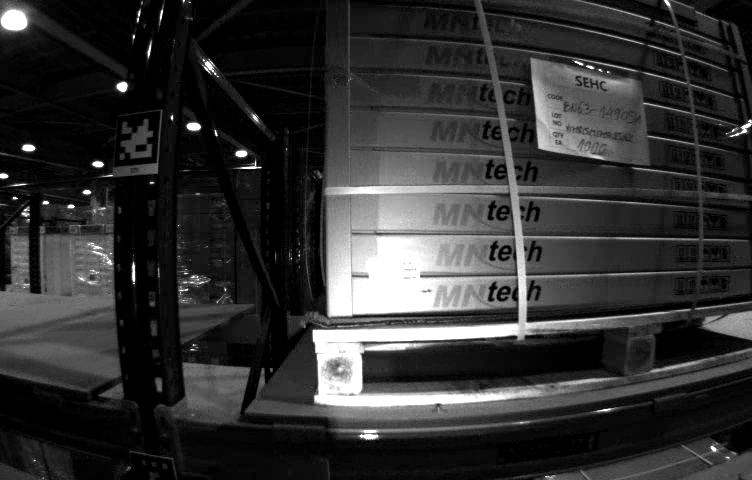True Barcode: (369, 260, 421, 297)
